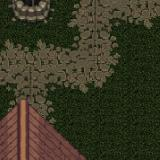Hide: (0, 0, 68, 40)
